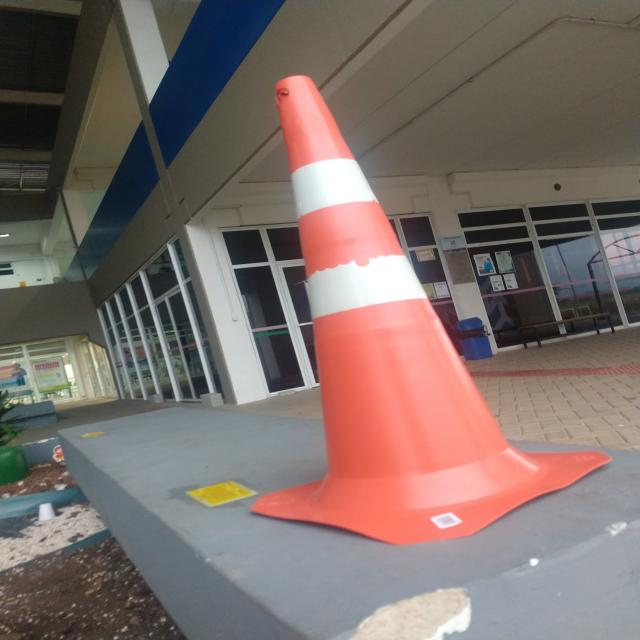cone: (259, 56, 544, 515)
